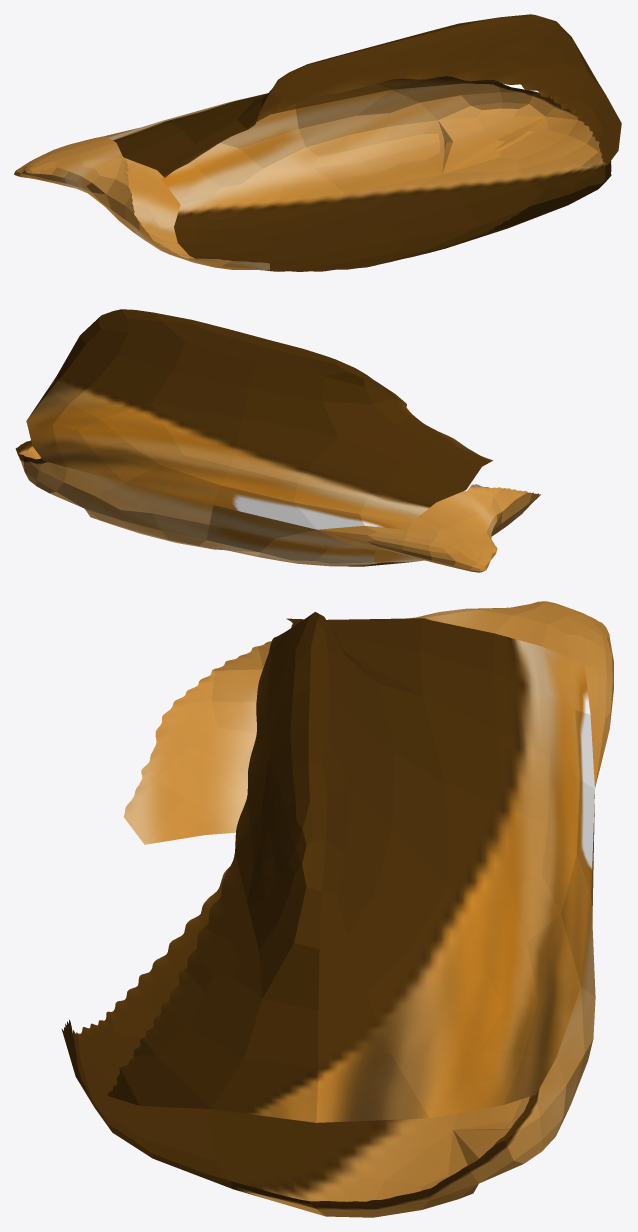
Rendered from BONE1-1.fbx.
3 renders of one model, top to bottom at view 1: azimuth 30°, elevation 25°; view 2: azimuth 150°, elevation 25°; view 3: azimuth 270°, elevation 25°, orthographic. The views are drawn at different scales.
Visible parts, largest first — view 1: Head; view 2: Head; view 3: Head.
Boxes of the visible parts, box(x1,y1,x2,y2) form: Head: box(14, 14, 621, 271); Head: box(15, 309, 540, 572); Head: box(61, 601, 613, 1217).
Size of the model in its own units: 581 by 193 by 288.
